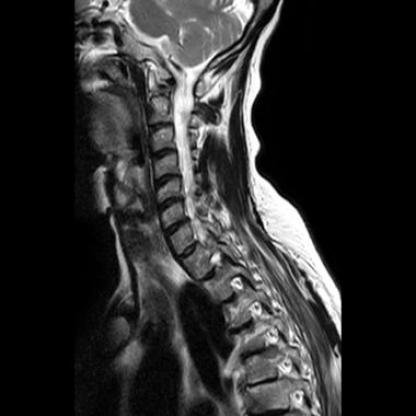Disc Bulgerotation: (162, 216, 192, 238), (153, 172, 183, 189), (155, 195, 185, 212)
